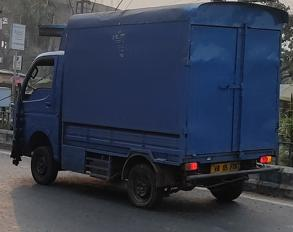Truck: (10, 2, 283, 213)
